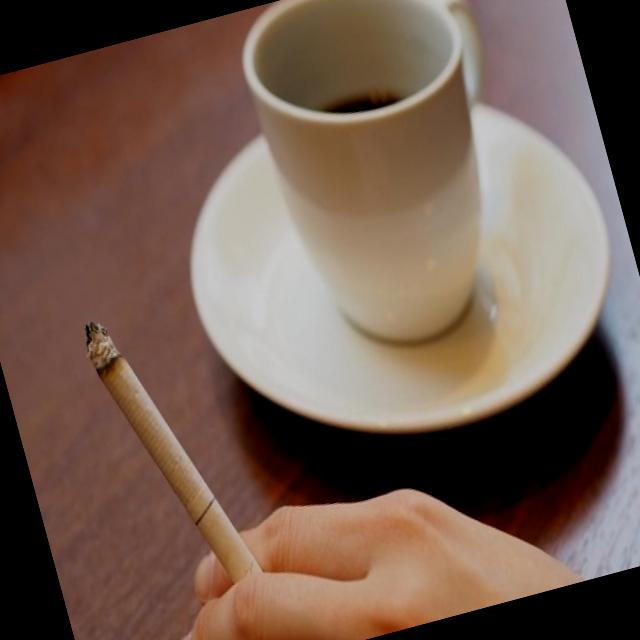smoke: (79, 298, 268, 616)
